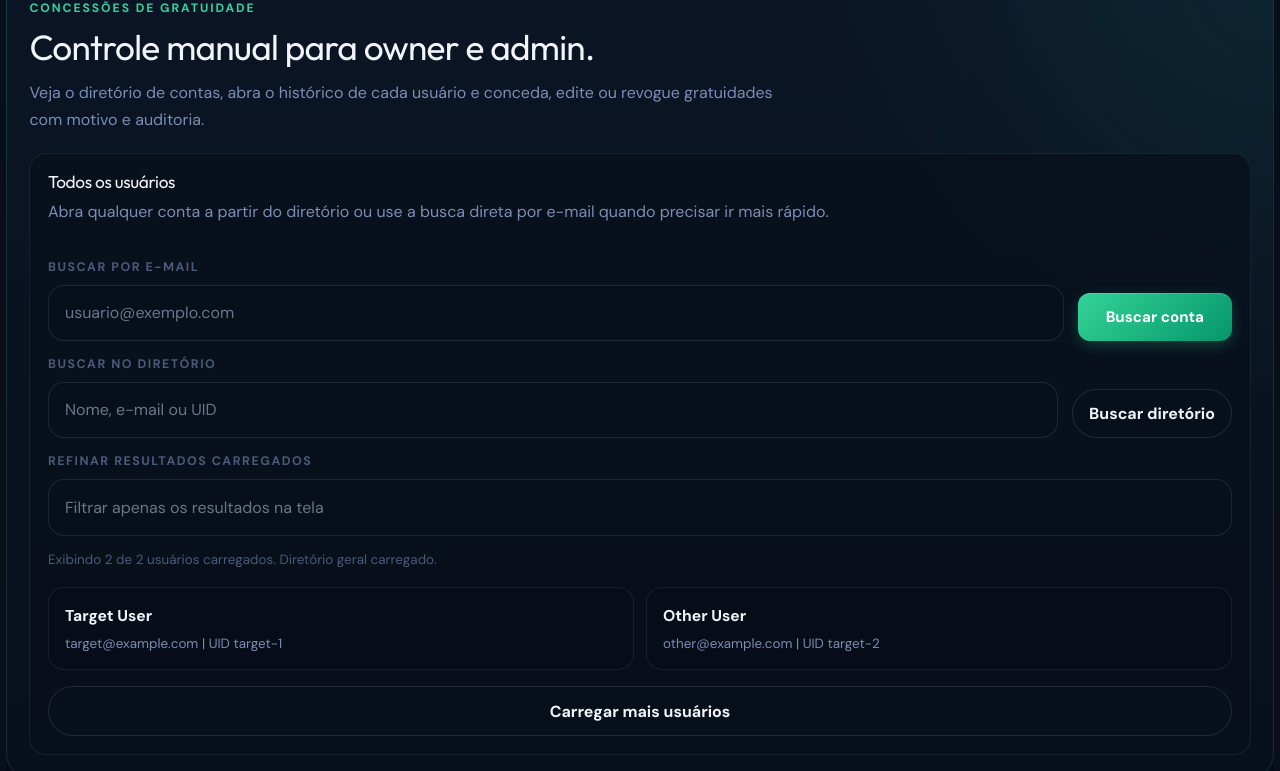
Scenario: BillingManualGrantsConsole › filters audit logs by action and operator
Click the button "Target User target@example.com | UID target-1": (109,615) x1=48 y1=587 x2=634 y2=670
(page scrolled)
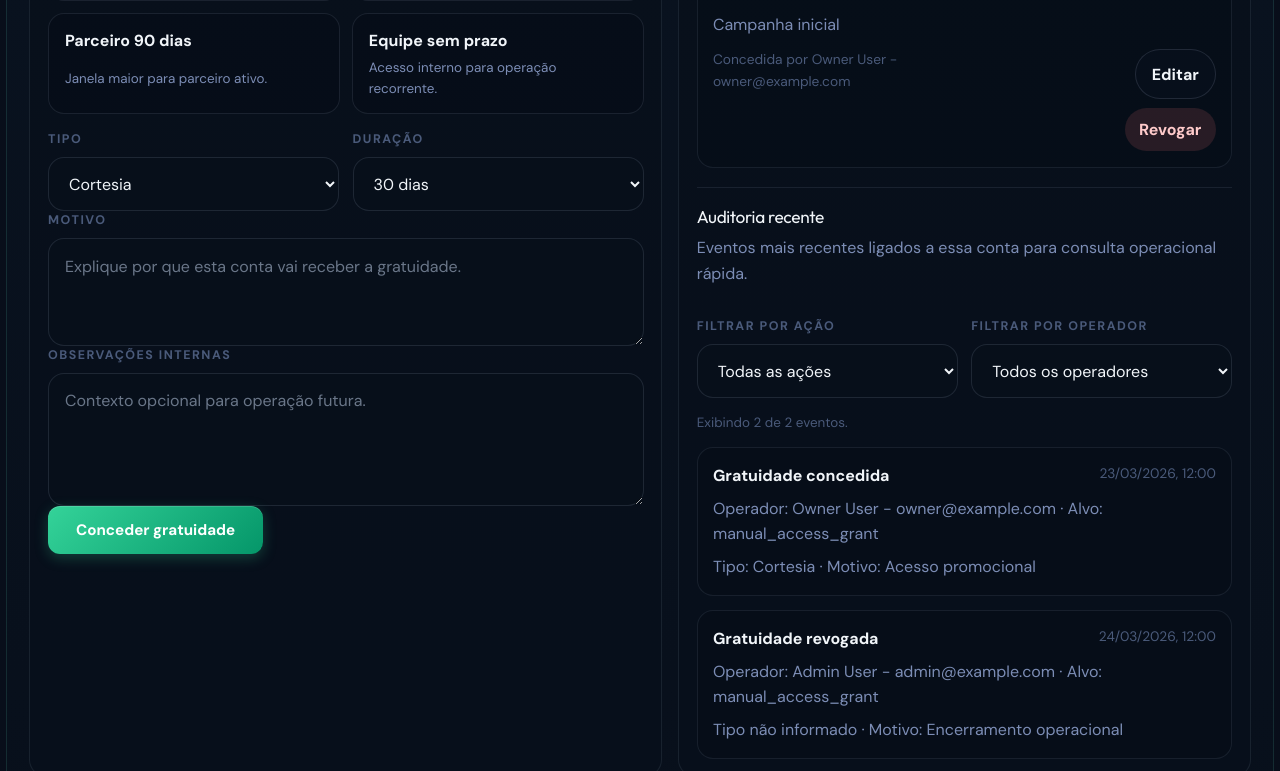
Select "Gratuidade revogada" in the dropdown labelled "Filtrar por ação": (827,371) x1=697 y1=344 x2=958 y2=398
(page scrolled)
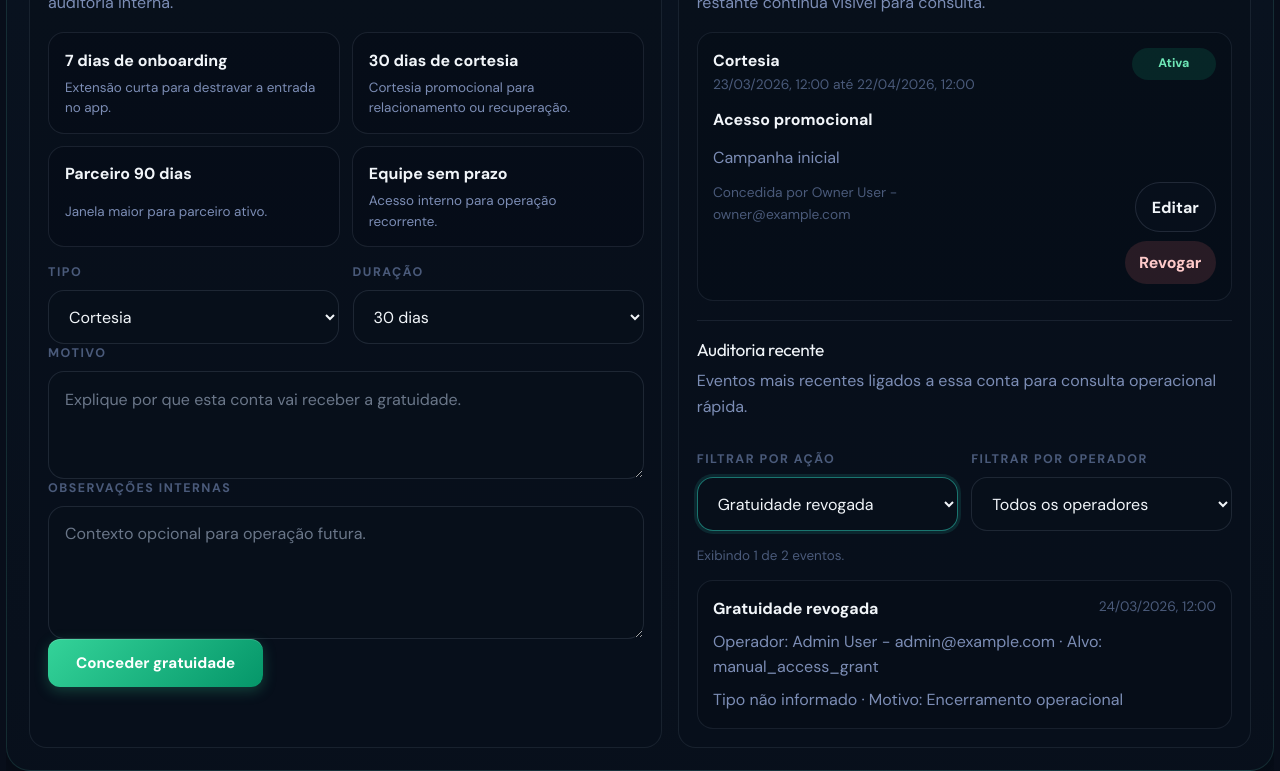
expect the text "Operador: Admin User - admin@example.com · Alvo: manual_access_grant" is shown: met, box x1=713 y1=631 x2=1102 y2=678
expect the text "Exibindo 1 de 2 eventos." is shown: met, box x1=697 y1=547 x2=844 y2=564
Select "Owner User" in the dropdown labelled "Filtrar por operador": (1102,504) x1=971 y1=477 x2=1232 y2=531
(page scrolled)
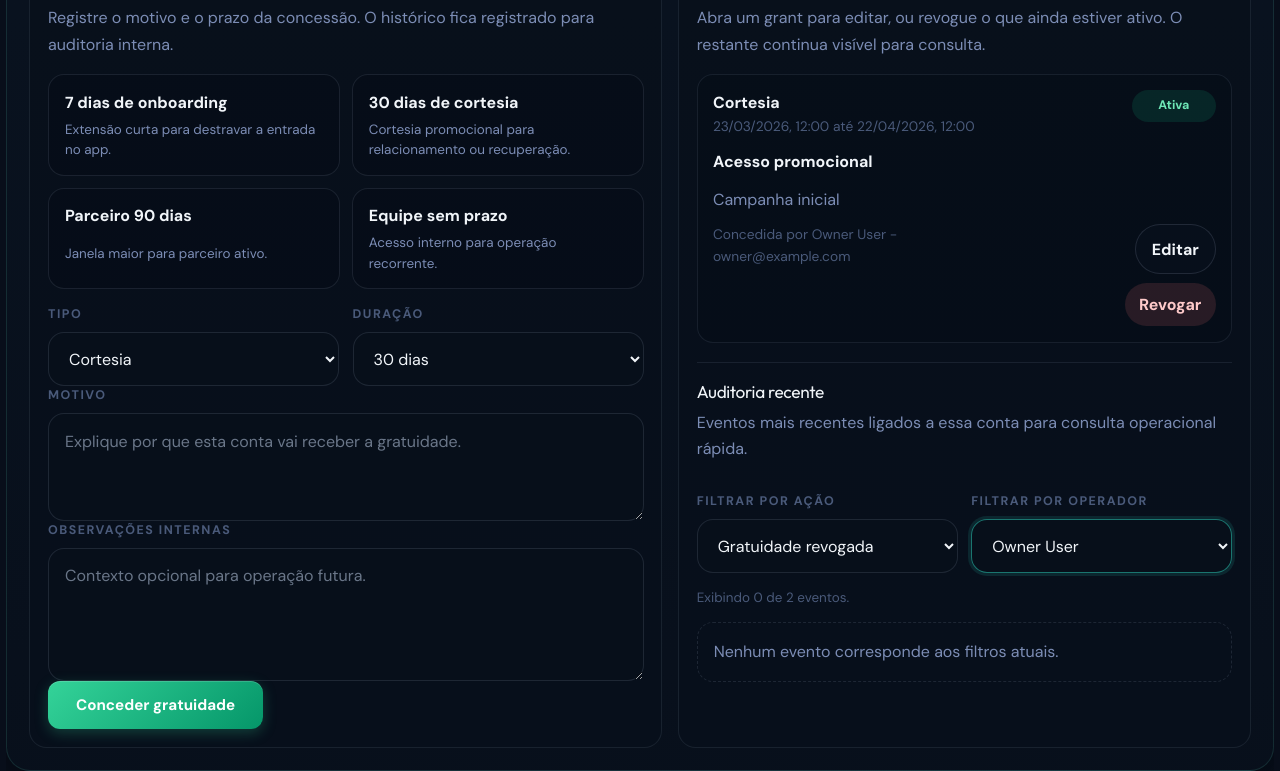
expect the text "Exibindo 0 de 2 eventos." is shown: met, box x1=697 y1=589 x2=849 y2=606
expect the text "Nenhum evento corresponde aos filtros atuais." is shown: met, box x1=697 y1=622 x2=1232 y2=682
